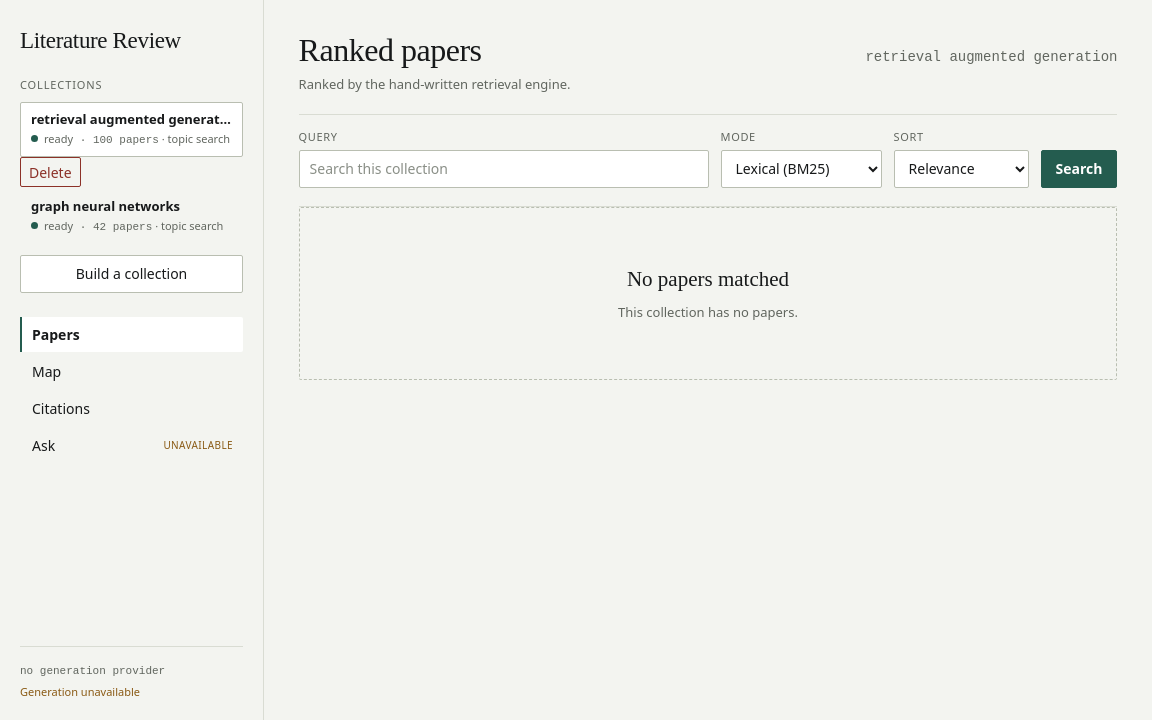
Test case: deleting a collection › asks first, naming the collection and its paper count, and Cancel deletes nothing
The width and height of the screenshot is (1152, 720).
Click the button with aria-label "Delete the selected collection": [50, 172] box [20,157,81,187]
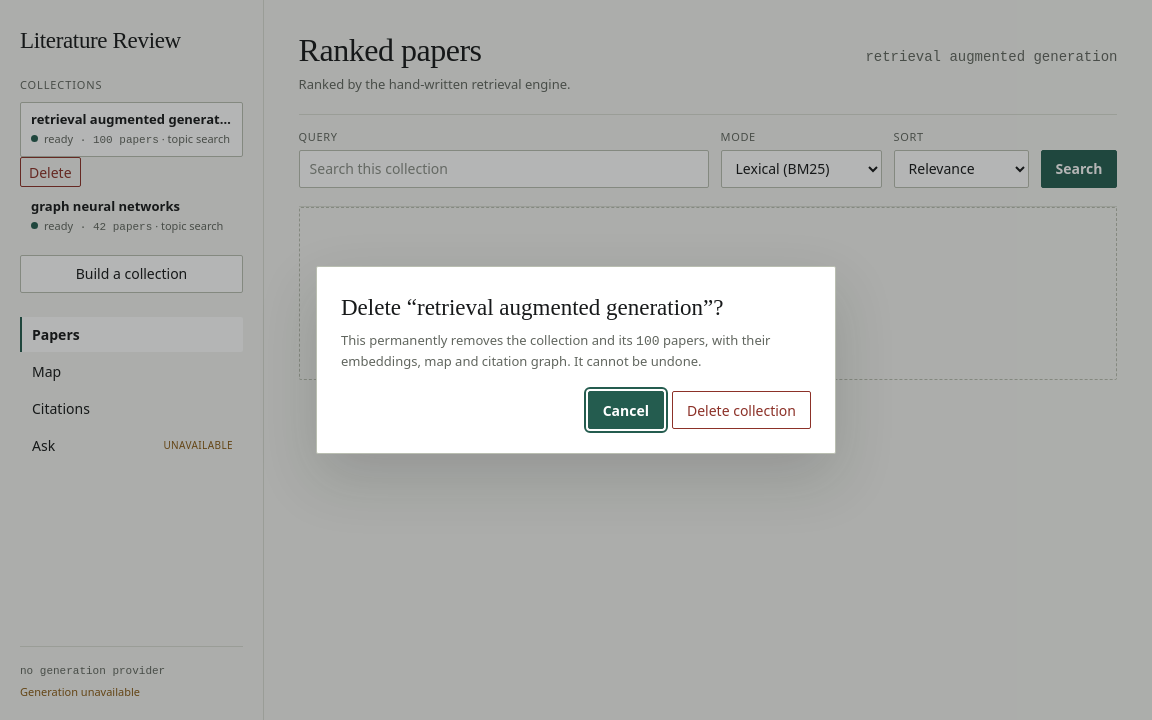
Check: the dialog named "Delete .retrieval augmented generation.?" shows "100 papers", box [316,266,836,454]
Check: the dialog named "Delete .retrieval augmented generation.?" shows "cannot be undone", box [567,352,702,370]
Click the button "Cancel": [626, 410] box [588,391,664,429]
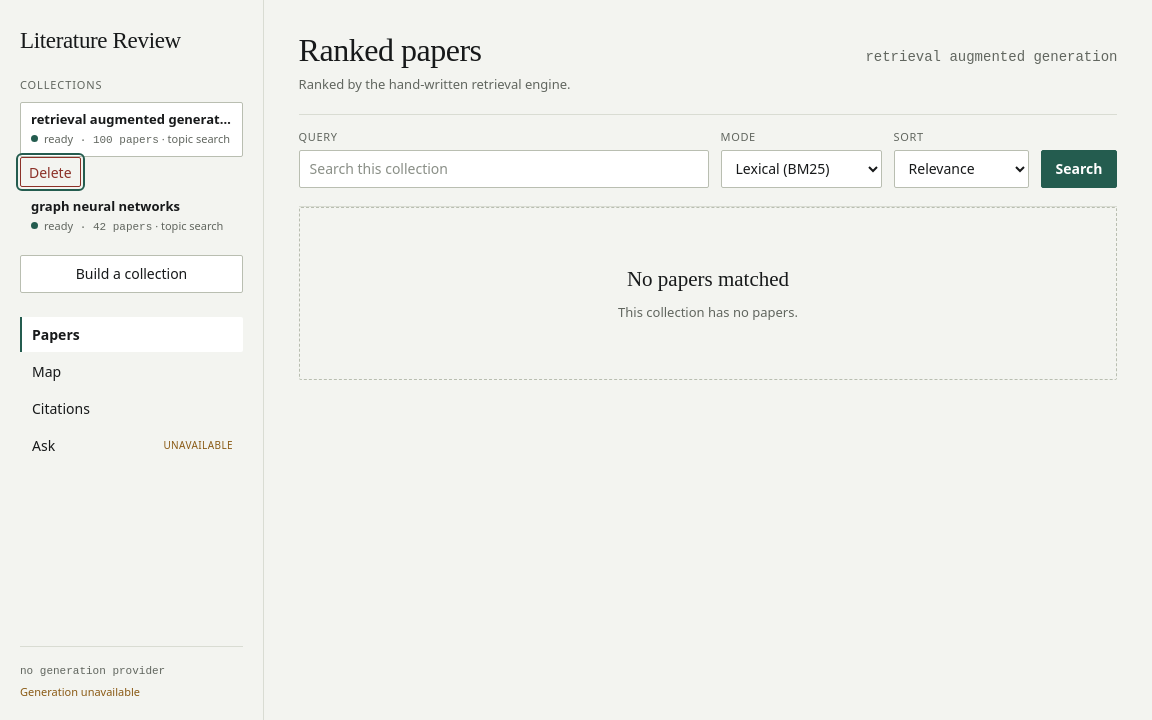
Check: the dialog is gone
